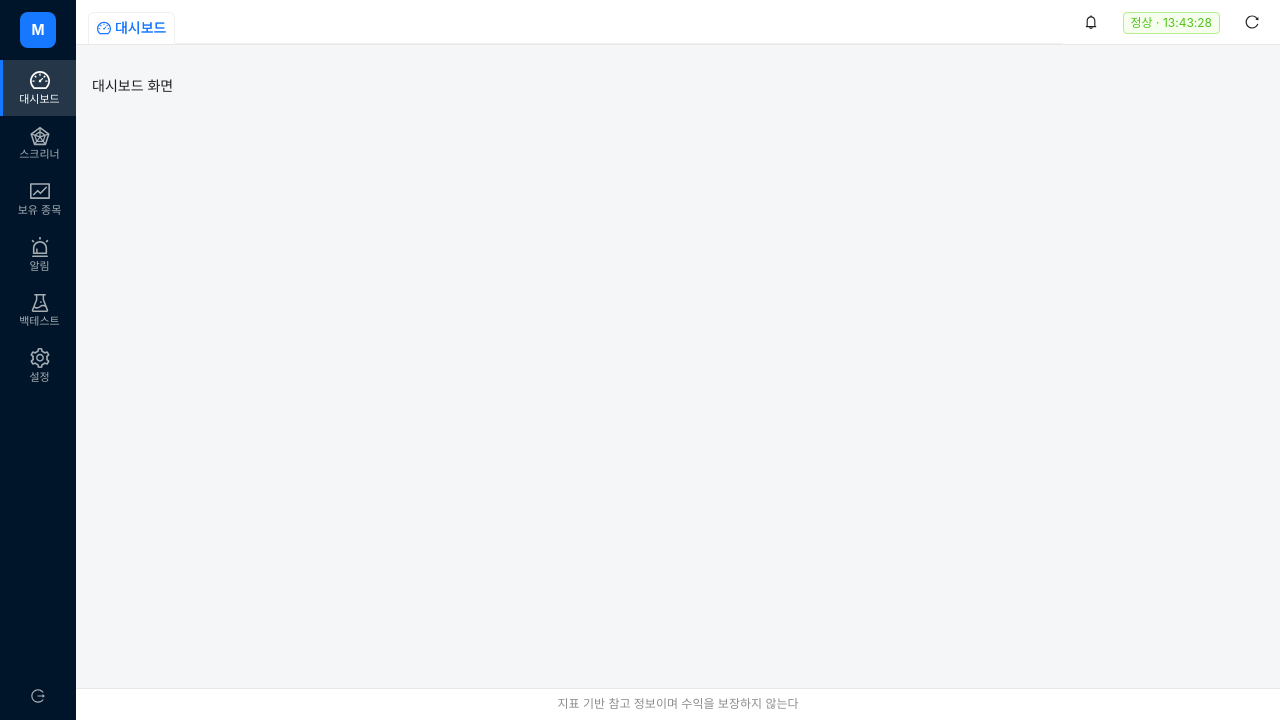
Test: AppLayout › closes a tab and moves to its neighbour, but keeps the last one
Step 1. Click the link "스크리너" → (40, 143), box [19, 126, 60, 161]
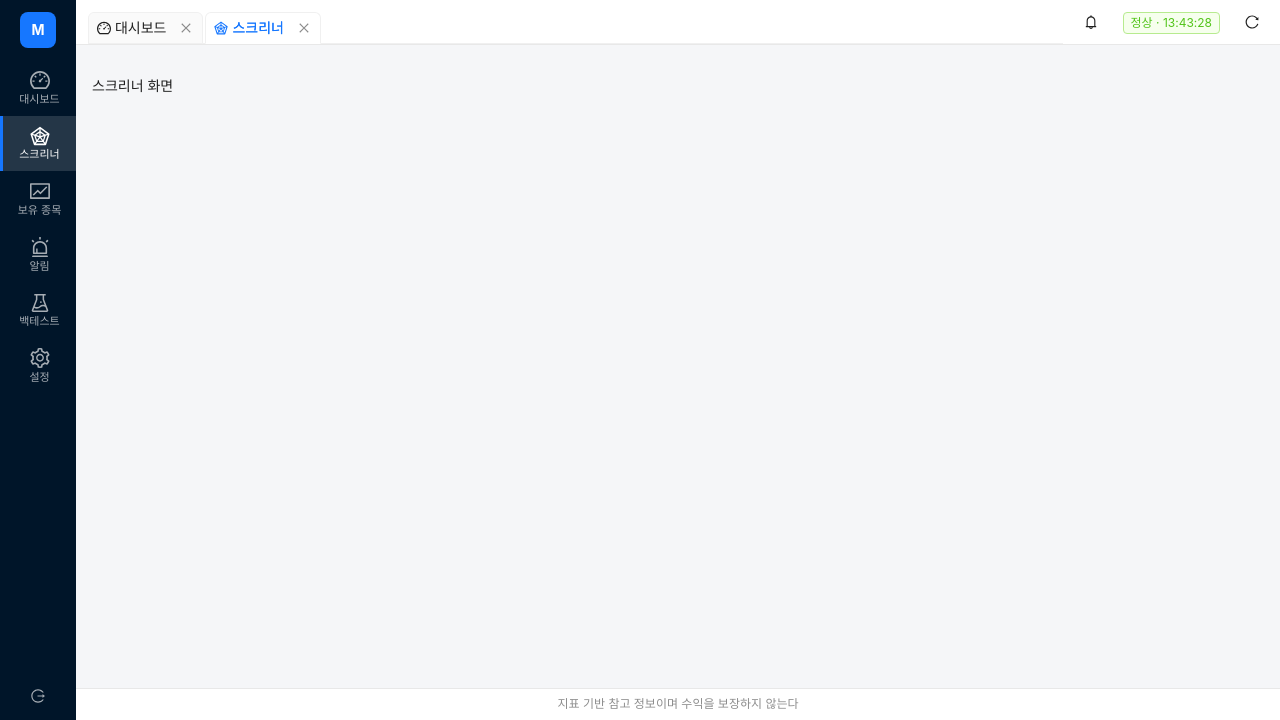
Expected: the text "스크리너 화면" is shown, [92, 77, 173, 94]
Step 2. Click the 2nd tab named "remove" → (304, 28), box [292, 21, 316, 35]
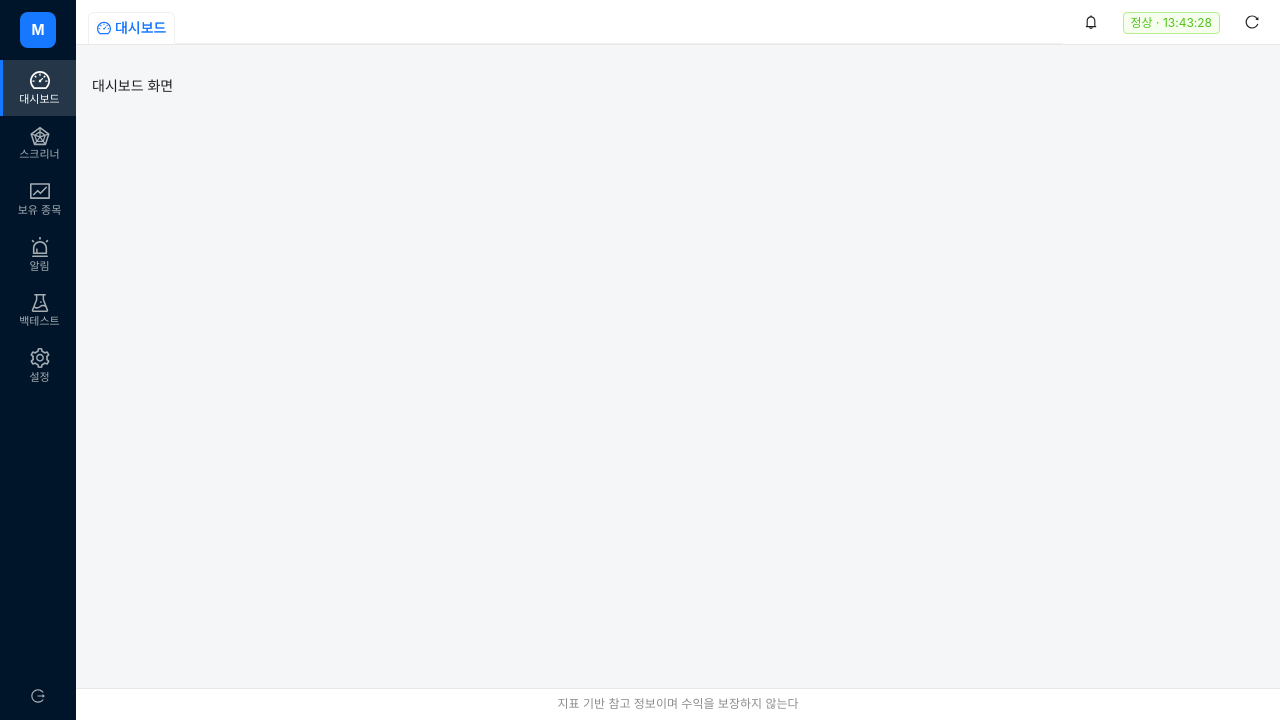
Expected: the text "대시보드 화면" is shown, [92, 77, 173, 94]
Expected: no tabs "remove" are shown
